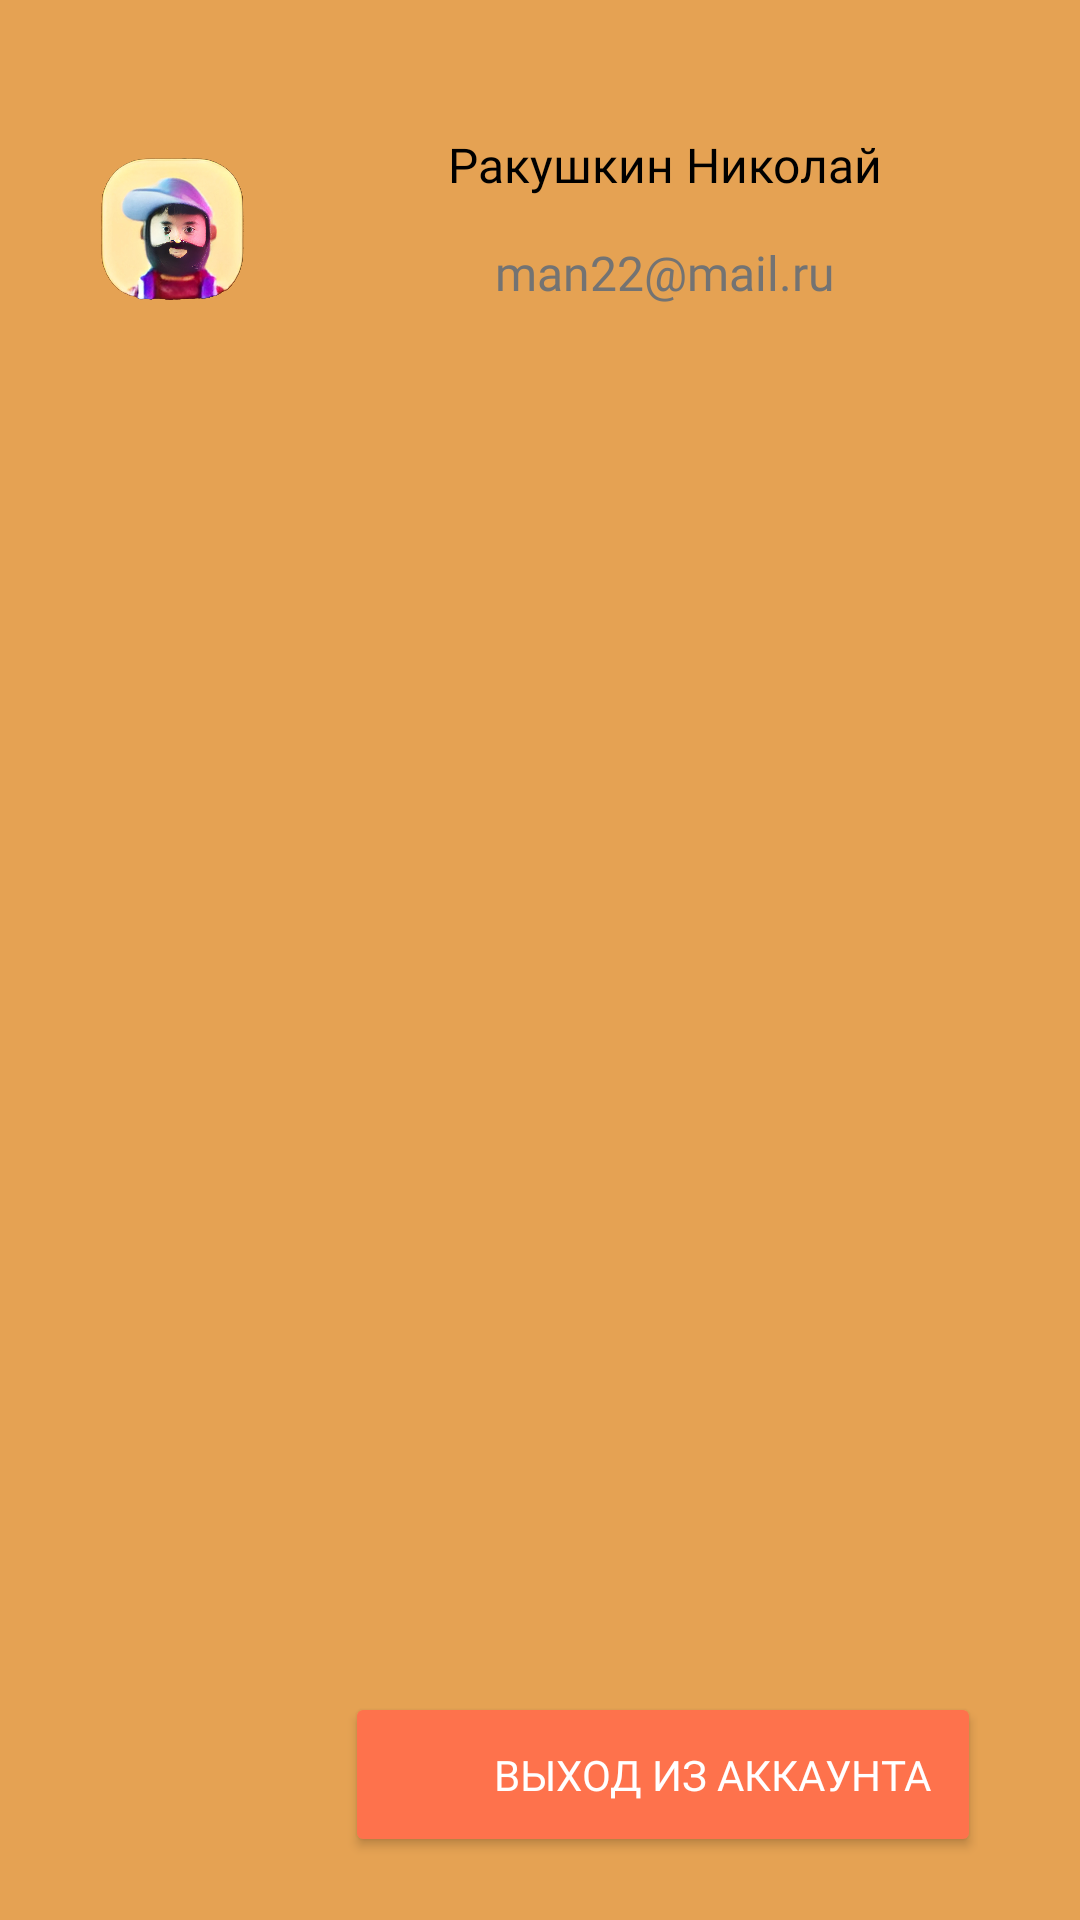

Icon bounding boxes for this 1080w x 1920h phone screenshot, format (x1, y1, x2, y2):
profile: (101, 158, 244, 300)
